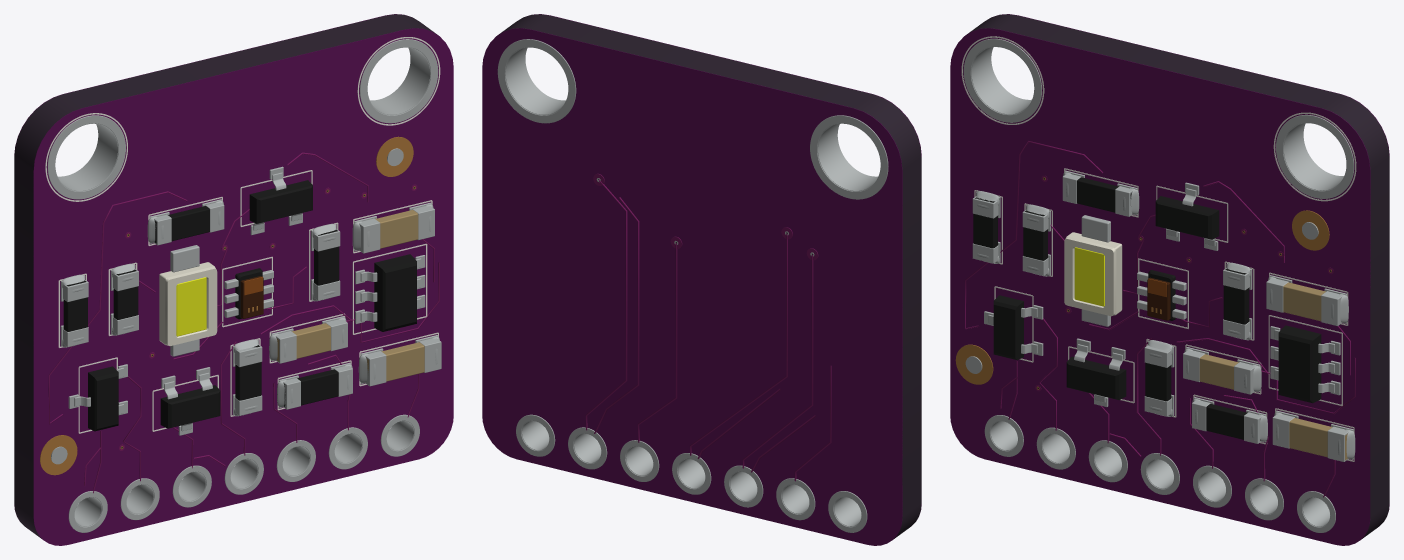
File: rgb sensor.glb
3 views of the same model, side by side, from view 1: azimuth 30°, elevation 25°; view 2: azimuth 150°, elevation 25°; view 3: azimuth 330°, elevation 25° (orthographic).
Parts seen in each view (by area): view 1: Front solder mask_export, FR4 board core_export, U2 regulator molded body_export, LED continuous ceramic rim_export, Q1 upper transistor molded body_export, Mount left front pad_export, Mount right front pad_export, Q3 logic switch molded body_export, Mount right plated barrel_export, Mount left plated barrel_export, Q2 LED switch molded body_export, LED phosphor window_export (+34 smaller); view 2: Rear solder mask_export, FR4 board core_export, Mount left rear pad_export, Mount right rear pad_export, Mount right plated barrel_export, Mount left plated barrel_export, Rear trace 03_export, Rear trace 07_export, INT connection rear pad_export, LED connection rear pad_export, VIN connection rear pad_export, SDA connection rear pad_export (+13 smaller); view 3: Front solder mask_export, FR4 board core_export, U2 regulator molded body_export, LED continuous ceramic rim_export, Q1 upper transistor molded body_export, Mount left front pad_export, Mount right front pad_export, Q3 logic switch molded body_export, Mount right plated barrel_export, Mount left plated barrel_export, Q2 LED switch molded body_export, LED phosphor window_export (+35 smaller).
Boxes of the visible parts, box(x1,y1,x2,y2) form: Front solder mask_export: box(33, 28, 453, 545); FR4 board core_export: box(14, 14, 437, 539); U2 regulator molded body_export: box(374, 254, 416, 331); LED continuous ceramic rim_export: box(165, 266, 217, 345); Q1 upper transistor molded body_export: box(249, 180, 312, 223); Mount left front pad_export: box(47, 115, 125, 199); Mount right front pad_export: box(359, 39, 438, 123); Q3 logic switch molded body_export: box(160, 385, 220, 428); Mount right plated barrel_export: box(367, 47, 430, 115); Mount left plated barrel_export: box(55, 123, 118, 191); Q2 LED switch molded body_export: box(88, 366, 118, 431); LED phosphor window_export: box(176, 277, 206, 336); Rear solder mask_export: box(482, 28, 902, 545); FR4 board core_export: box(498, 14, 921, 539); Mount left rear pad_export: box(810, 115, 888, 199); Mount right rear pad_export: box(497, 39, 576, 123); Mount right plated barrel_export: box(505, 47, 568, 115); Mount left plated barrel_export: box(817, 123, 880, 191); Rear trace 03_export: box(585, 179, 627, 430); Rear trace 07_export: box(594, 197, 639, 433); INT connection rear pad_export: box(776, 478, 815, 520); LED connection rear pad_export: box(828, 491, 867, 532); VIN connection rear pad_export: box(516, 414, 555, 456); SDA connection rear pad_export: box(724, 465, 763, 507); Front solder mask_export: box(950, 28, 1370, 545); FR4 board core_export: box(966, 14, 1389, 539); U2 regulator molded body_export: box(1278, 325, 1321, 403); LED continuous ceramic rim_export: box(1064, 236, 1116, 316); Q1 upper transistor molded body_export: box(1155, 196, 1219, 239); Mount left front pad_export: box(963, 38, 1041, 122); Mount right front pad_export: box(1276, 114, 1354, 198); Q3 logic switch molded body_export: box(1066, 356, 1126, 399); Mount right plated barrel_export: box(1283, 123, 1346, 190); Mount left plated barrel_export: box(971, 46, 1034, 114); Q2 LED switch molded body_export: box(993, 295, 1023, 360); LED phosphor window_export: box(1074, 247, 1104, 306).
Bounding box in the file's own units: 0.0203 × 0.02 × 0.00264.
